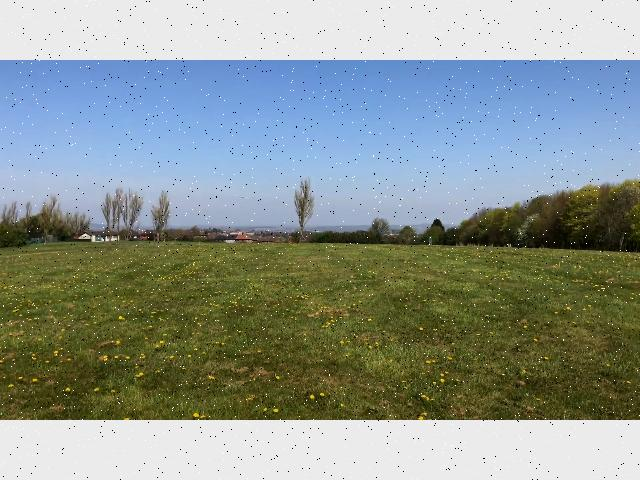Anti-Drone: (230, 193, 260, 205)
